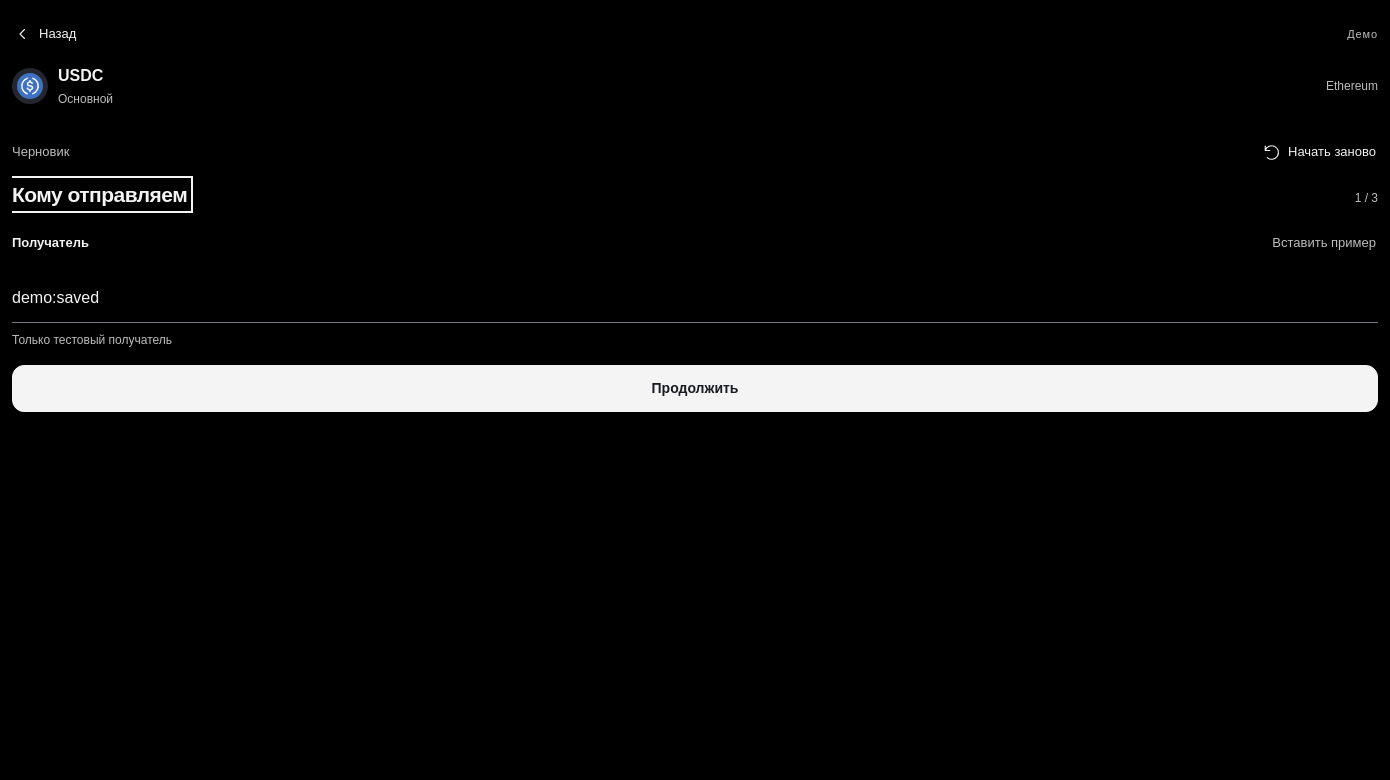
Test: keeps the named recipient edit separate from close and draft restart
What coordinates should you click on to do the following:
click the button "Продолжить"
I would click on:
 (695, 389)
Its box is [12,365,1378,412].
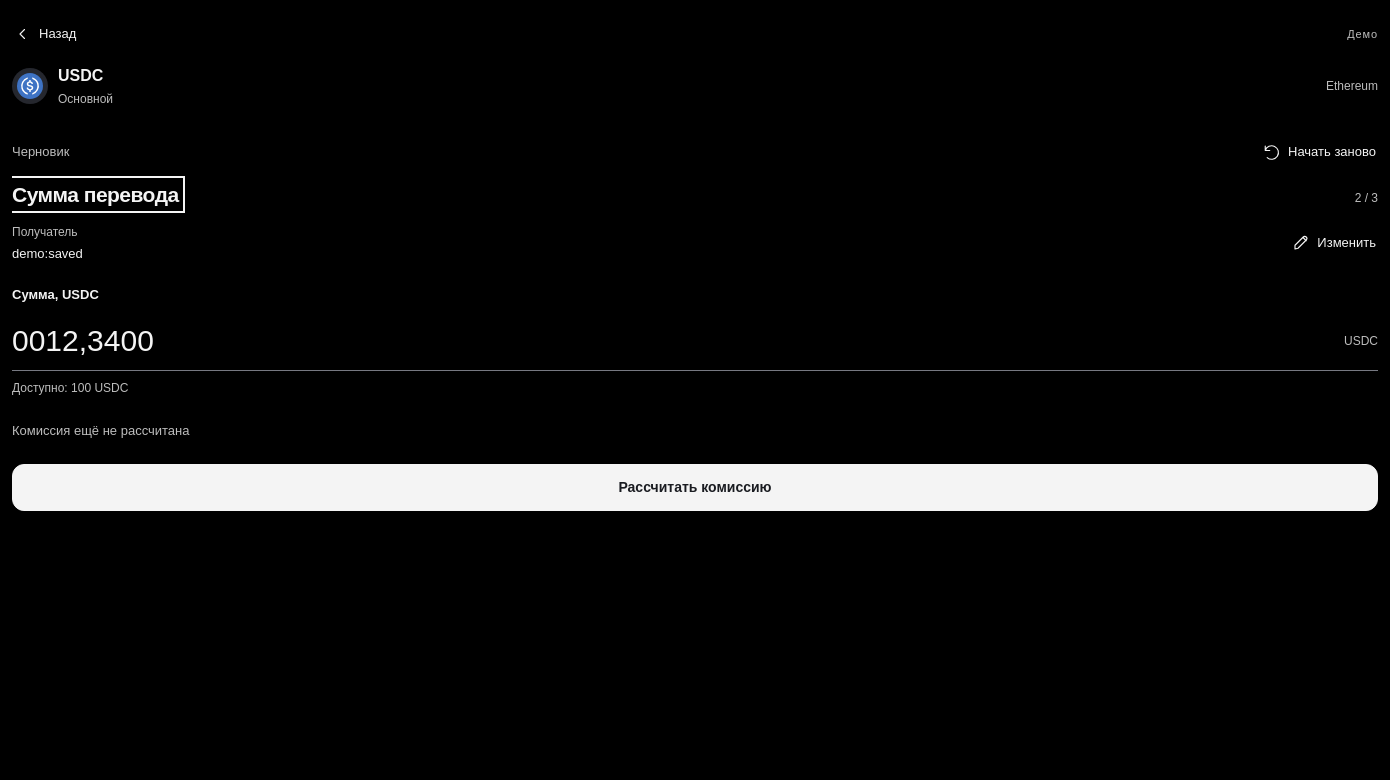
expect the field labelled "Сумма, USDC" holds "0012,3400": met, box [12,319,1336,363]
What coordinates should you click on to do the following:
click the button "Рассчитать комиссию"
I would click on:
 (695, 488)
Its box is [12,464,1378,511].
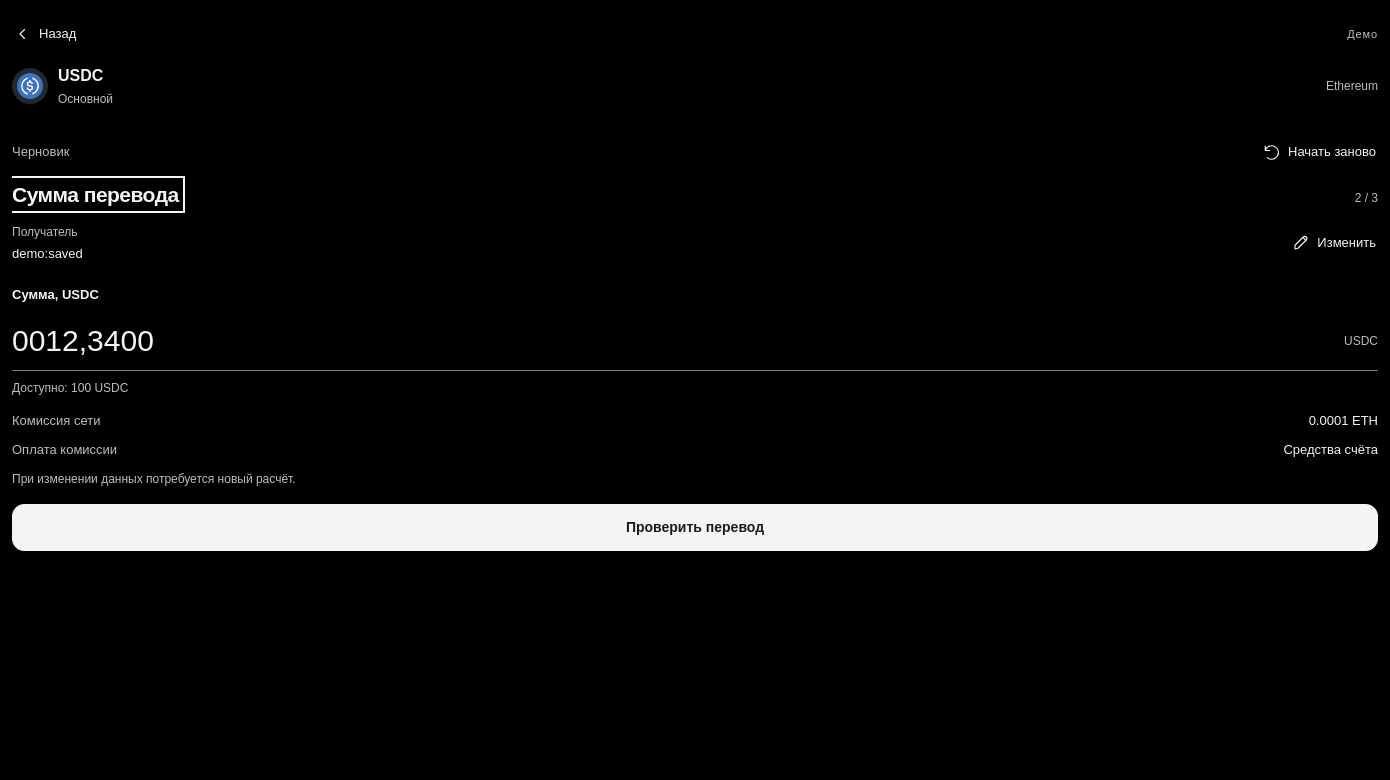
expect the button with aria-label "Изменить получателя" reads "Изменить": met
expect the button "Проверить перевод" is shown: met, box [12,504,1378,551]
What coordinates should you click on to do the following:
click the button with aria-label "Изменить получателя"
I would click on:
 (1334, 243)
Its box is [1290,221,1378,265].
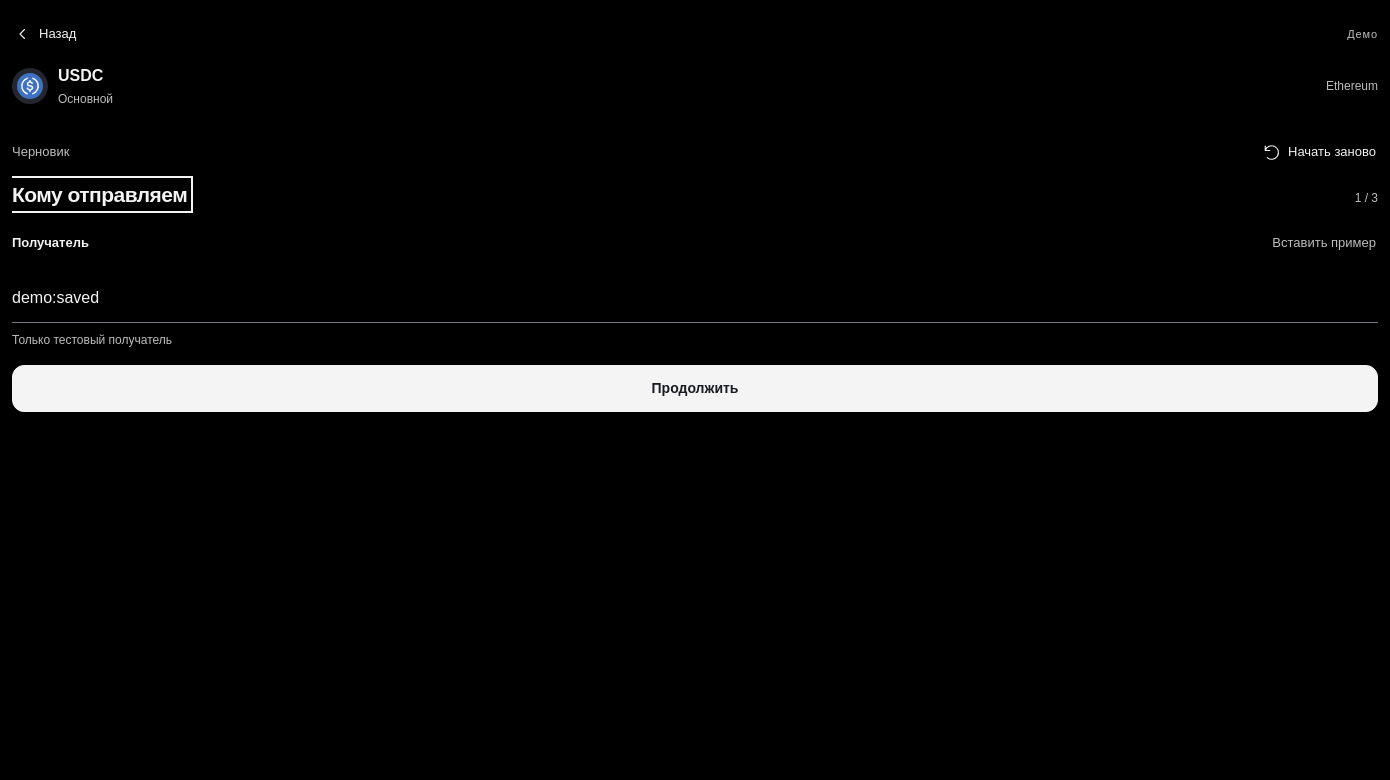
expect the text "Черновик" is shown: met, box [12,142,69,162]
expect the field labelled "Получатель" holds "demo:saved": met, box [12,273,1378,323]
What coordinates should you click on to do the following:
click the button "Продолжить"
I would click on:
 (695, 389)
Its box is [12,365,1378,412].
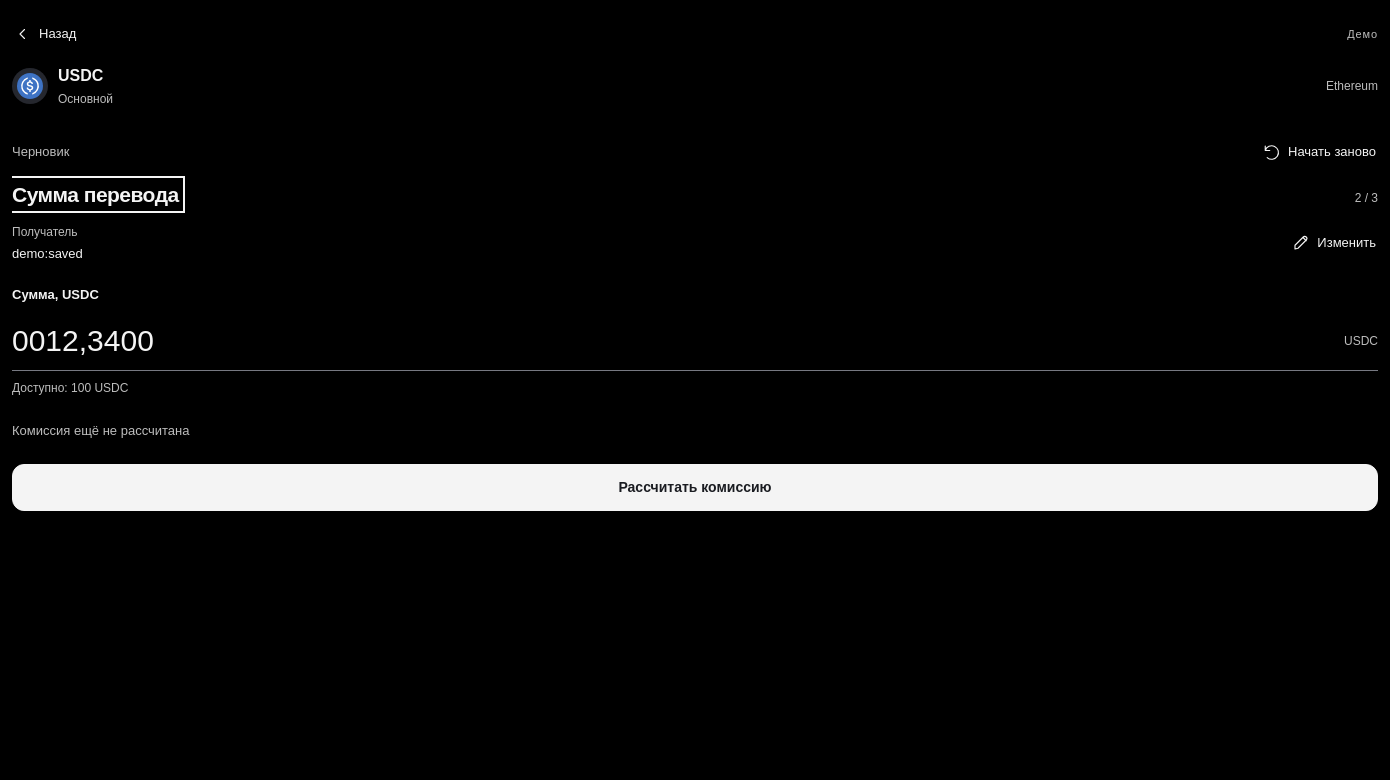
expect the button "Проверить перевод" is not shown: met
expect the field labelled "Сумма, USDC" holds "0012,3400": met, box [12,319,1336,363]
